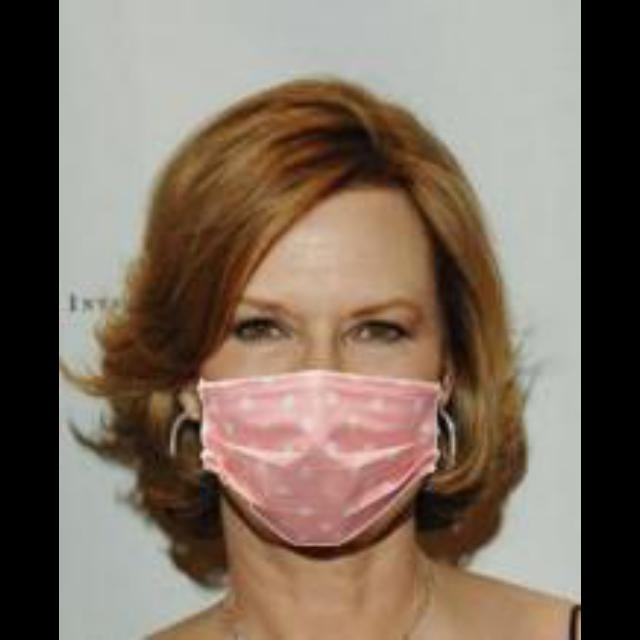suspicion: (140, 126, 516, 568)
